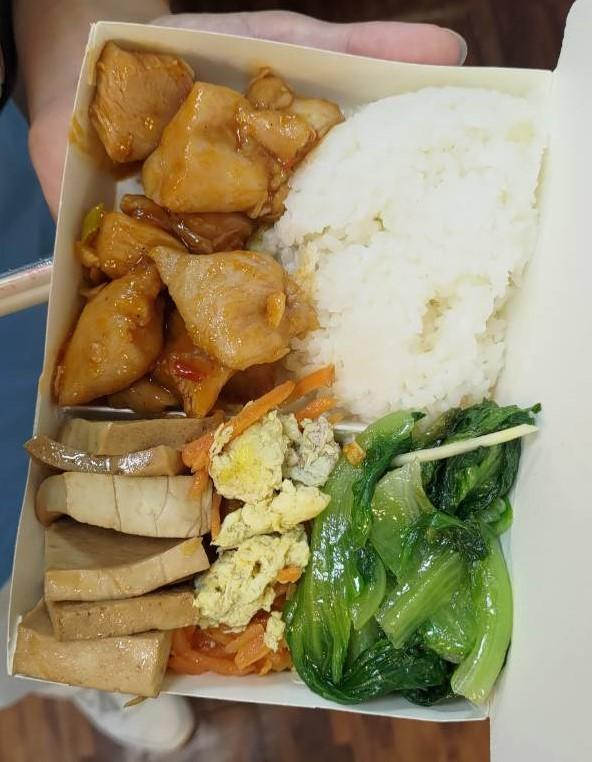big grilled chicken leg: (19, 10, 561, 748)
big herbal chicken leg: (292, 64, 543, 426)
braised fish fillet: (308, 399, 532, 708), (24, 410, 206, 691), (186, 410, 330, 680)
braised pork: (42, 40, 331, 413)
